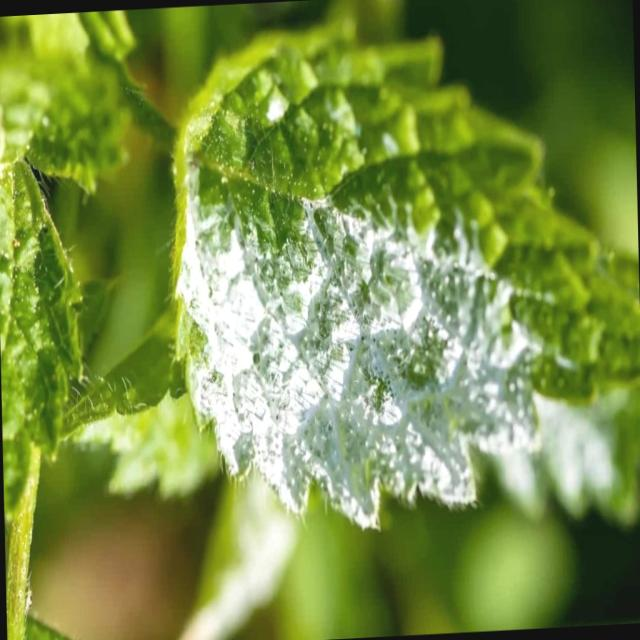Powdery Mildew: (175, 161, 547, 531)
